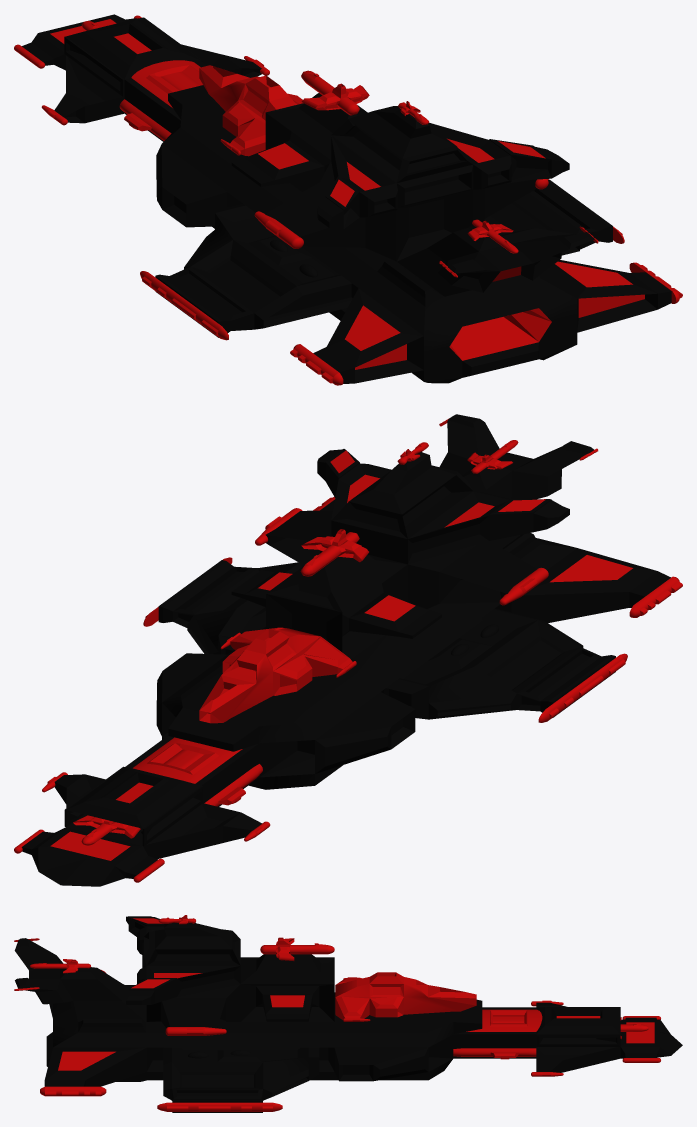
Rendered from ship_lp2.glb.
The picture shows the model from 3 angles, top to bottom: view 1: azimuth 30°, elevation 25°; view 2: azimuth 150°, elevation 25°; view 3: azimuth 270°, elevation 25°; orthographic projection. The views are drawn at different scales.
Parts seen in each view (by area): view 1: Sphere006_black mat for body_0, ChamferCyl004_07 - Default_0, Box002_body color 2_0; view 2: Sphere006_black mat for body_0, ChamferCyl004_07 - Default_0, Box002_body color 2_0; view 3: Sphere006_black mat for body_0, ChamferCyl004_07 - Default_0, Box002_body color 2_0.
Part boxes in pixels (x1=…): Sphere006_black mat for body_0: x1=21, y1=14, x2=671, y2=383; ChamferCyl004_07 - Default_0: x1=14, y1=15, x2=682, y2=385; Box002_body color 2_0: x1=119, y1=60, x2=303, y2=156; Sphere006_black mat for body_0: x1=21, y1=414, x2=670, y2=886; ChamferCyl004_07 - Default_0: x1=14, y1=418, x2=682, y2=882; Box002_body color 2_0: x1=133, y1=627, x2=352, y2=806; Sphere006_black mat for body_0: x1=14, y1=916, x2=682, y2=1112; ChamferCyl004_07 - Default_0: x1=14, y1=915, x2=660, y2=1111; Box002_body color 2_0: x1=335, y1=972, x2=542, y2=1059.
Bounding box in the file's own units: 2.7 × 1.31 × 5.38.
